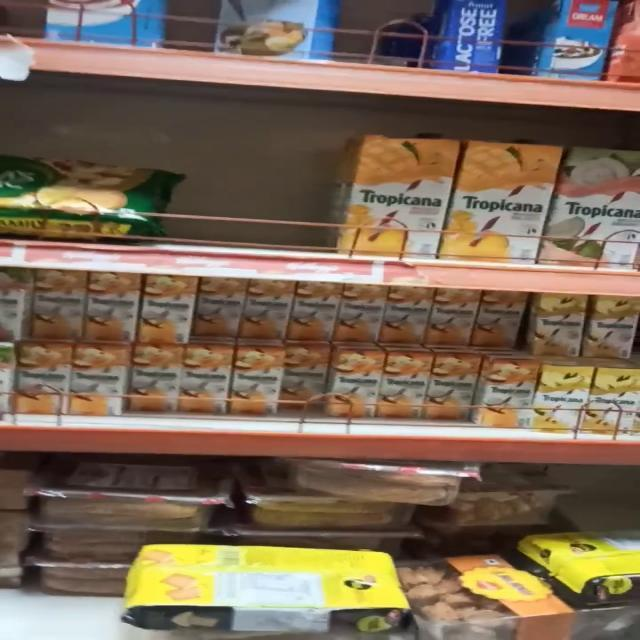Tropicana: (461, 130, 562, 262), (348, 129, 450, 253), (15, 348, 76, 418), (68, 346, 126, 418), (482, 354, 538, 427), (142, 278, 198, 350), (27, 274, 86, 340), (84, 274, 138, 344), (330, 348, 383, 418), (427, 350, 477, 424), (534, 365, 590, 431), (382, 352, 437, 418), (130, 348, 182, 416), (527, 294, 581, 358), (586, 294, 639, 359), (292, 284, 346, 346), (229, 351, 280, 416), (182, 348, 232, 414), (241, 282, 292, 346), (431, 288, 486, 347), (337, 284, 388, 346), (590, 368, 638, 432), (198, 280, 244, 344), (280, 350, 326, 413), (478, 290, 524, 347), (386, 287, 429, 345)
